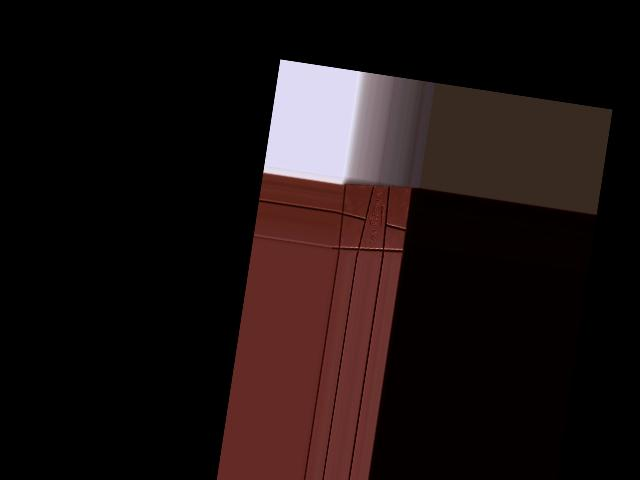chocolate: (331, 175, 416, 263)
